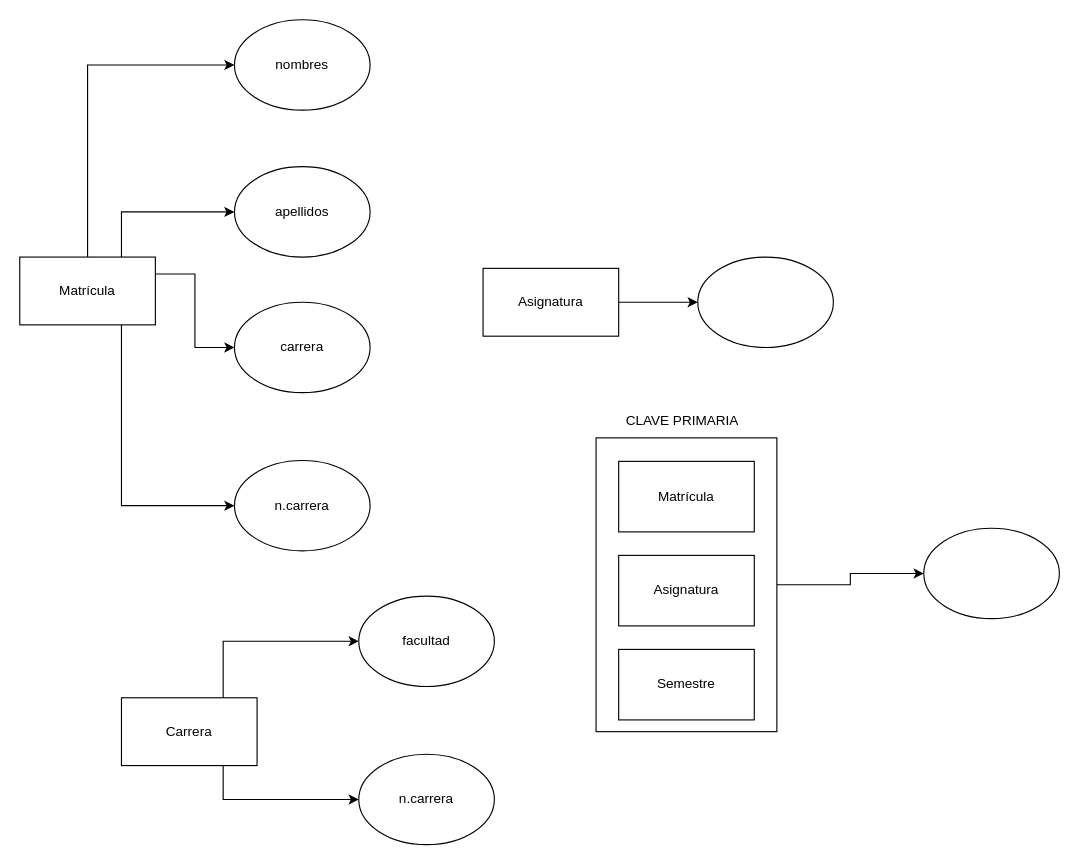
Some shapes in this 1079 by 864 pixel diagram are drawn without their labels. Each missing label, with the centre of its shape:
"calificación" belongs at point (991, 573).
"n.asignatura" belongs at point (765, 301).
